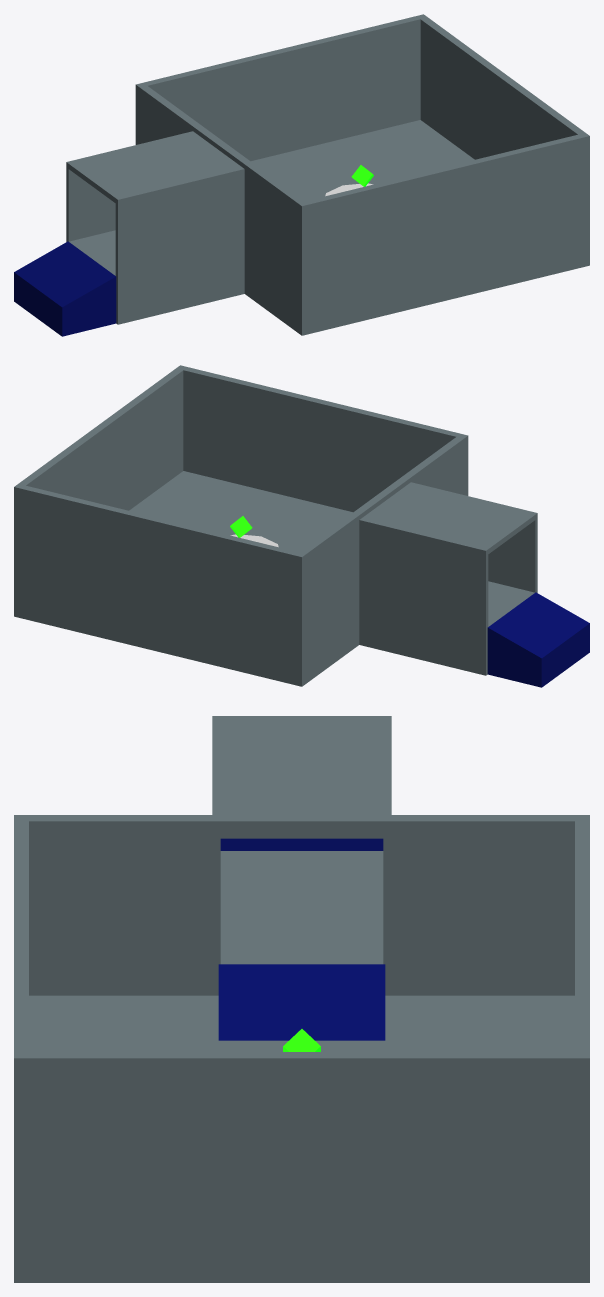
3 views of the same model, one above another, from view 1: azimuth 30°, elevation 25°; view 2: azimuth 150°, elevation 25°; view 3: azimuth 270°, elevation 25° (orthographic). The views are drawn at different scales.
Visible parts, largest first — view 1: Building, Exterior Ramp; view 2: Building, Exterior Ramp; view 3: Building, Interior Ramp, Exterior Ramp.
Part boxes in pixels (bbox=[...]): Building: bbox=[66, 14, 589, 335]; Exterior Ramp: bbox=[14, 241, 116, 336]; Building: bbox=[14, 365, 537, 686]; Exterior Ramp: bbox=[487, 592, 589, 687]; Building: bbox=[14, 716, 589, 1282]; Interior Ramp: bbox=[218, 964, 385, 1040]; Exterior Ramp: bbox=[220, 838, 383, 850].
Bounding box in the file's own units: 43.91 × 26.98 × 11.6.
